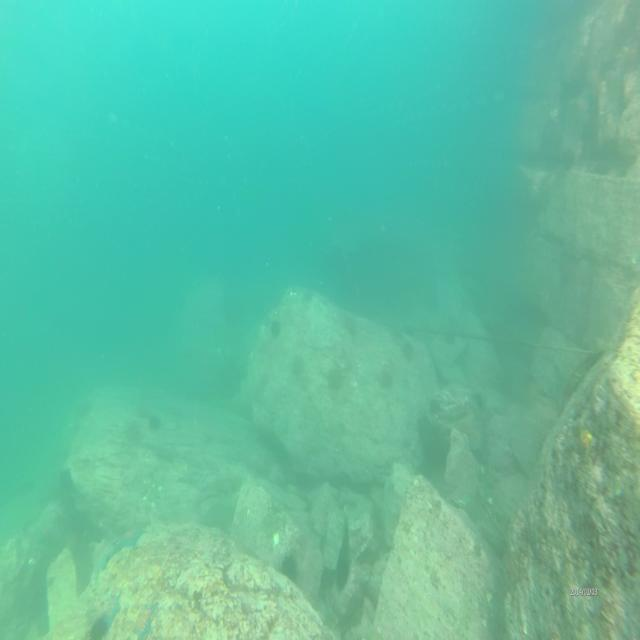echinus: (327, 360, 347, 395), (376, 358, 394, 392), (87, 613, 109, 640), (344, 307, 360, 339), (289, 352, 307, 380), (148, 408, 163, 436), (75, 395, 93, 418), (402, 336, 417, 363), (268, 316, 283, 343), (302, 280, 316, 308)
starfish: (91, 537, 118, 578), (132, 601, 160, 640), (115, 523, 146, 558), (100, 592, 123, 621)
